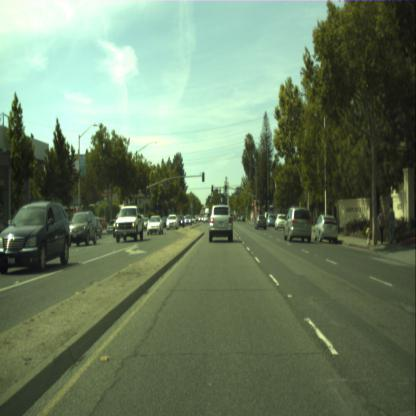Green: (268, 196, 270, 203), (225, 185, 226, 191)
off: (211, 185, 212, 191)
